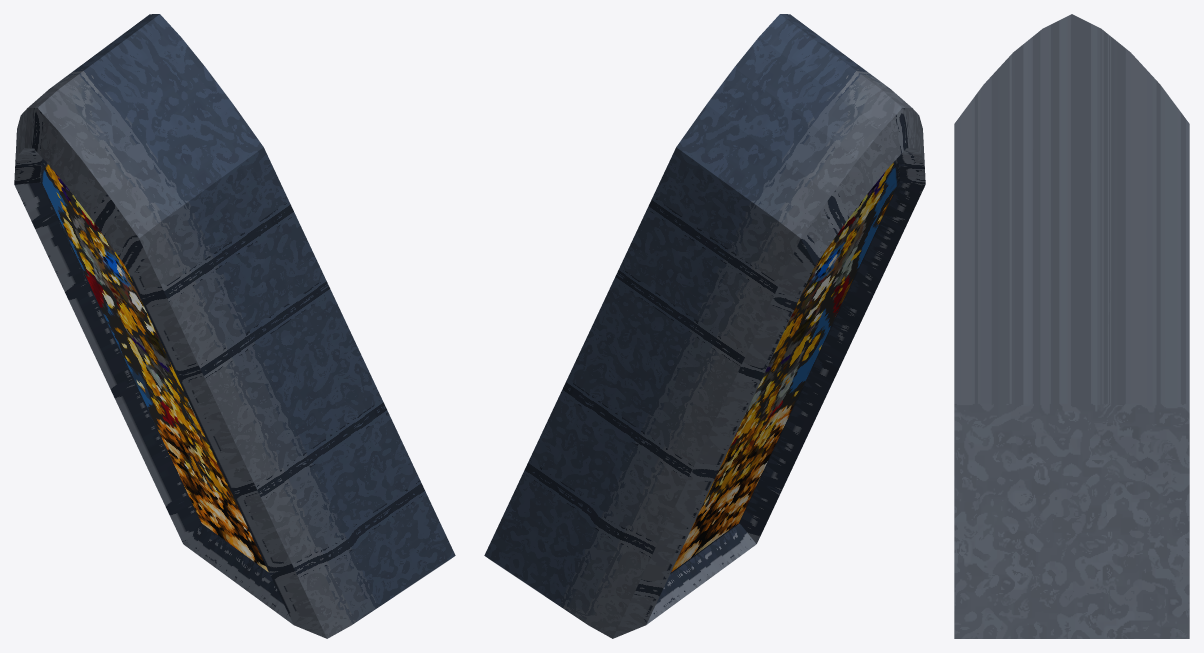
File: window_manor.fbx
The picture shows the model from 3 angles, left to right: view 1: azimuth 30°, elevation 25°; view 2: azimuth 150°, elevation 25°; view 3: azimuth 270°, elevation 25°; orthographic projection. The views are drawn at different scales.
Parts seen in each view (by area): view 1: Cube.001; view 2: Cube.001; view 3: Cube.001.
Boxes of the visible parts, x1=… form: Cube.001: x1=14, y1=14, x2=455, y2=638; Cube.001: x1=484, y1=14, x2=925, y2=638; Cube.001: x1=954, y1=14, x2=1189, y2=638.
Bounding box in the file's own units: 722 × 1163 × 437.
